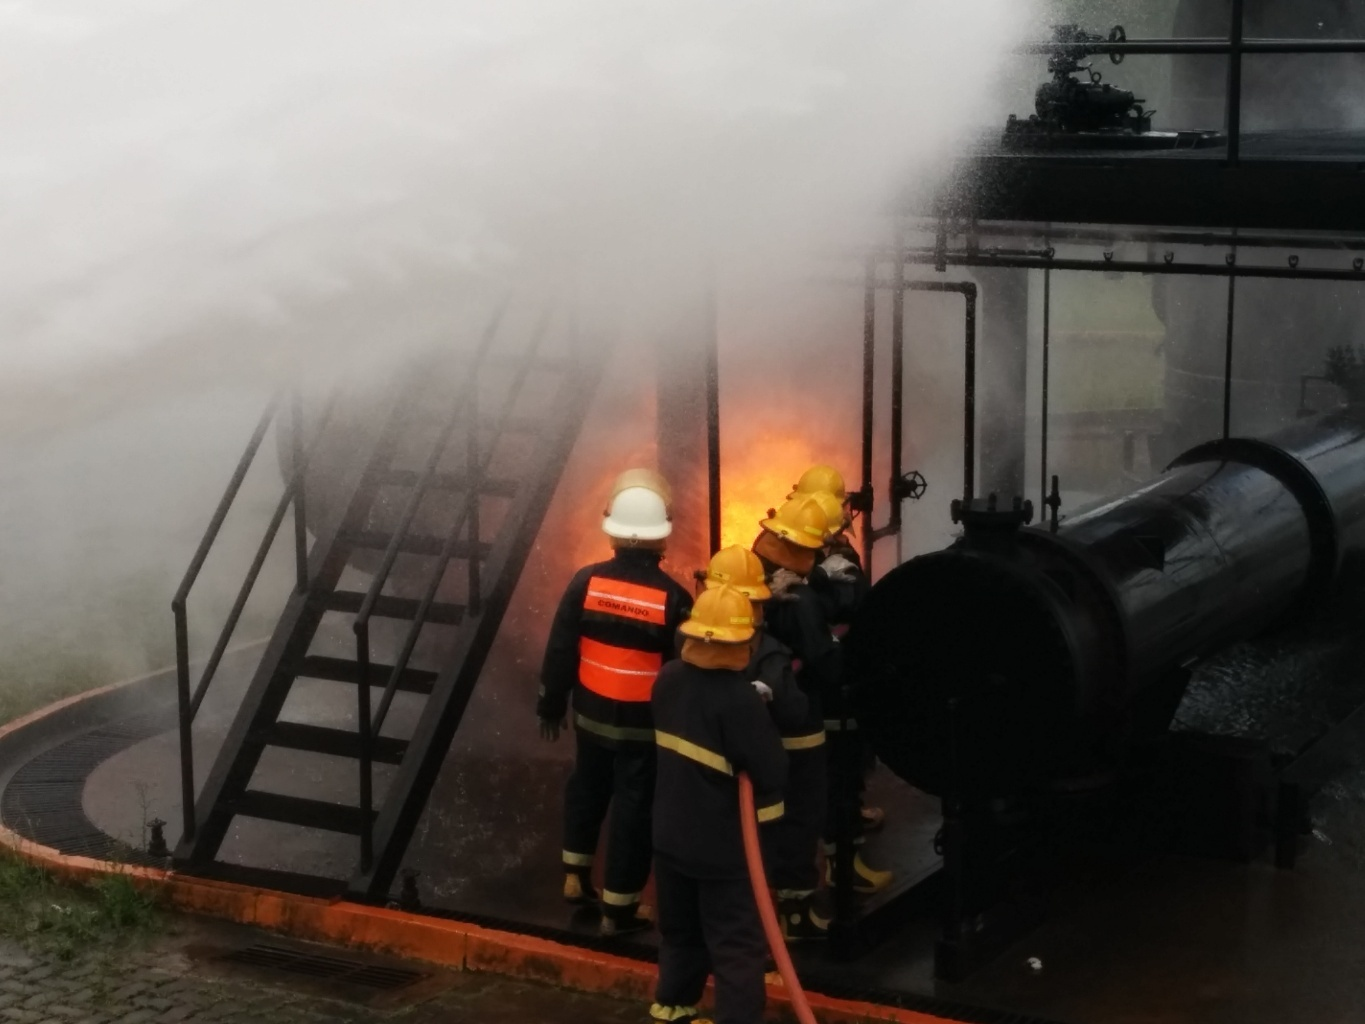fire: (598, 430, 856, 554)
